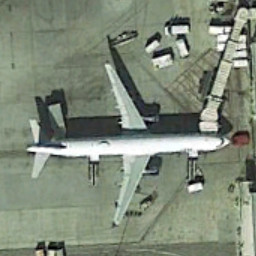Airplane: (22, 54, 231, 232)
